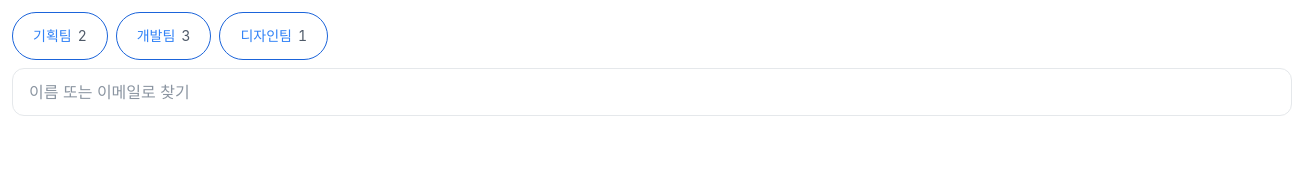
Scenario: AttendeePicker directory search › keeps newer query results visible when an older request resolves afterward
In the field named "참석자 검색": [652, 92] box [12,68,1292,116], type "older"
Wait 250 ms
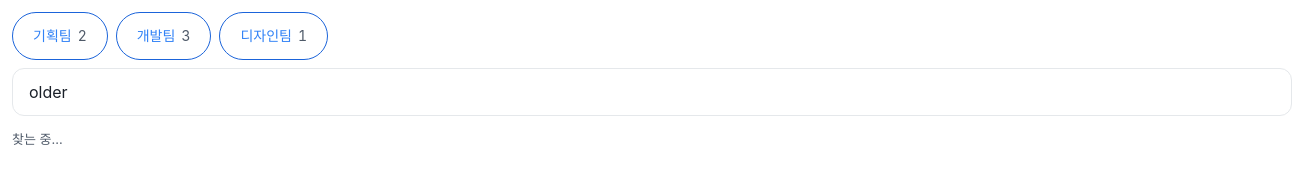
Replace the text in the field named "참석자 검색" with "newer": [652, 92] box [12,68,1292,116]
Wait 250 ms
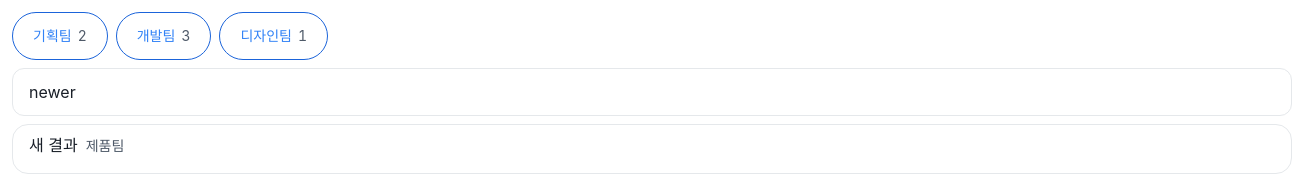
Check: the button "새 결과 제품팀" is shown, box [13,125,1291,173]
